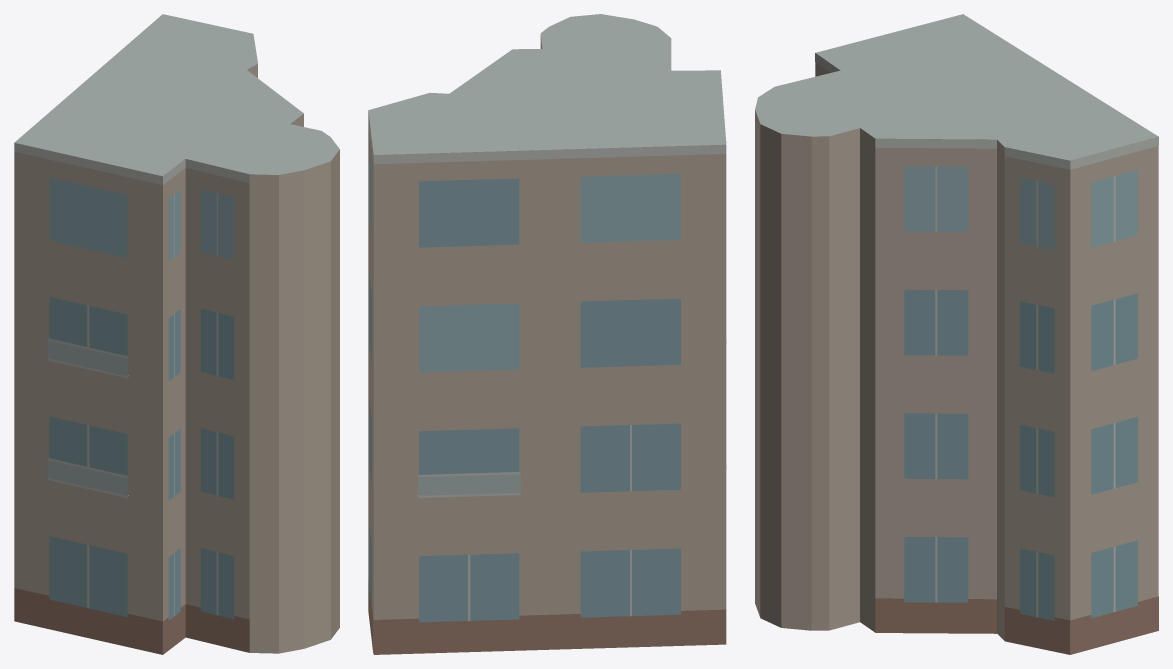
Rendered from survey-upis-32508804.glb.
3 views of the same model, side by side, from view 1: azimuth 30°, elevation 25°; view 2: azimuth 150°, elevation 25°; view 3: azimuth 270°, elevation 25° (orthographic). The views are drawn at different scales.
Visible parts, largest first — view 1: survey-upis-32508804.tmp; view 2: survey-upis-32508804.tmp; view 3: survey-upis-32508804.tmp.
Boxes of the visible parts, left/top/right/bottom form: survey-upis-32508804.tmp: left=14, top=14, right=339, bottom=654; survey-upis-32508804.tmp: left=368, top=14, right=726, bottom=654; survey-upis-32508804.tmp: left=755, top=14, right=1158, bottom=654.
Size of the model in its own units: 8.39 by 13.17 by 9.75.
